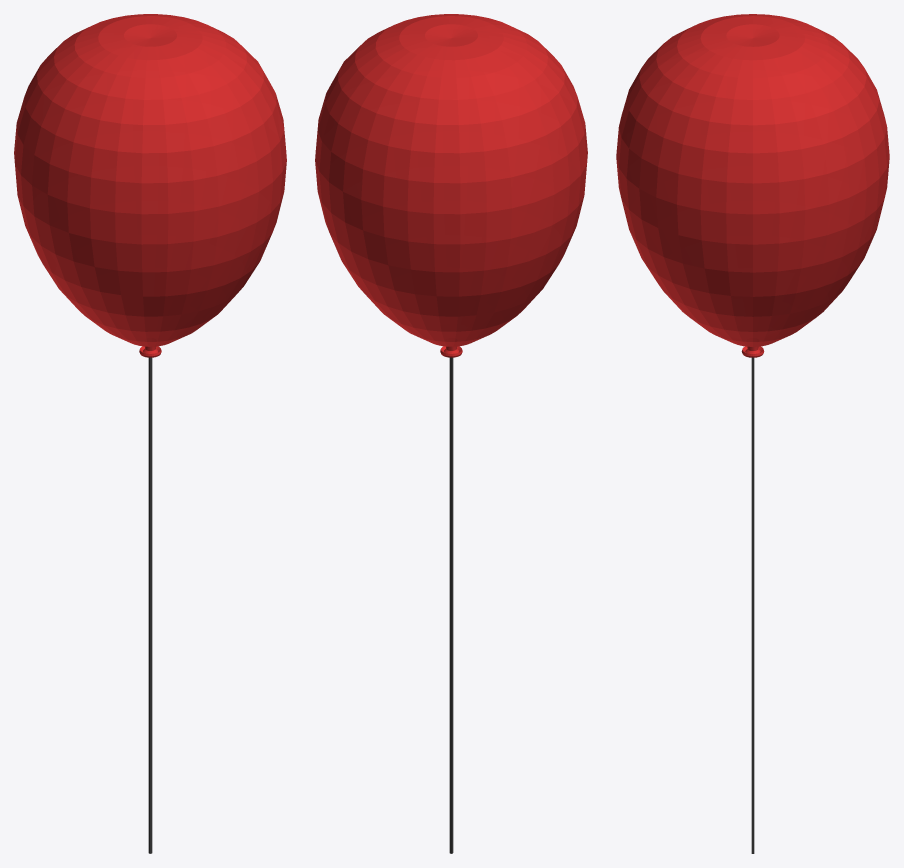
Rendered from baloons12.fbx.
3 views of the same model, side by side, from view 1: azimuth 30°, elevation 25°; view 2: azimuth 150°, elevation 25°; view 3: azimuth 270°, elevation 25° (orthographic).
Parts seen in each view (by area): view 1: Balloon, Plane; view 2: Balloon, Plane; view 3: Balloon, Plane.
Part boxes in pixels (x1,y1,x2,y2): Balloon: (14,14,286,357); Plane: (148,357,152,853); Balloon: (315,14,587,357); Plane: (449,357,453,853); Balloon: (616,14,889,357); Plane: (751,357,754,853).
Size of the model in its own units: 200 by 660 by 200.
